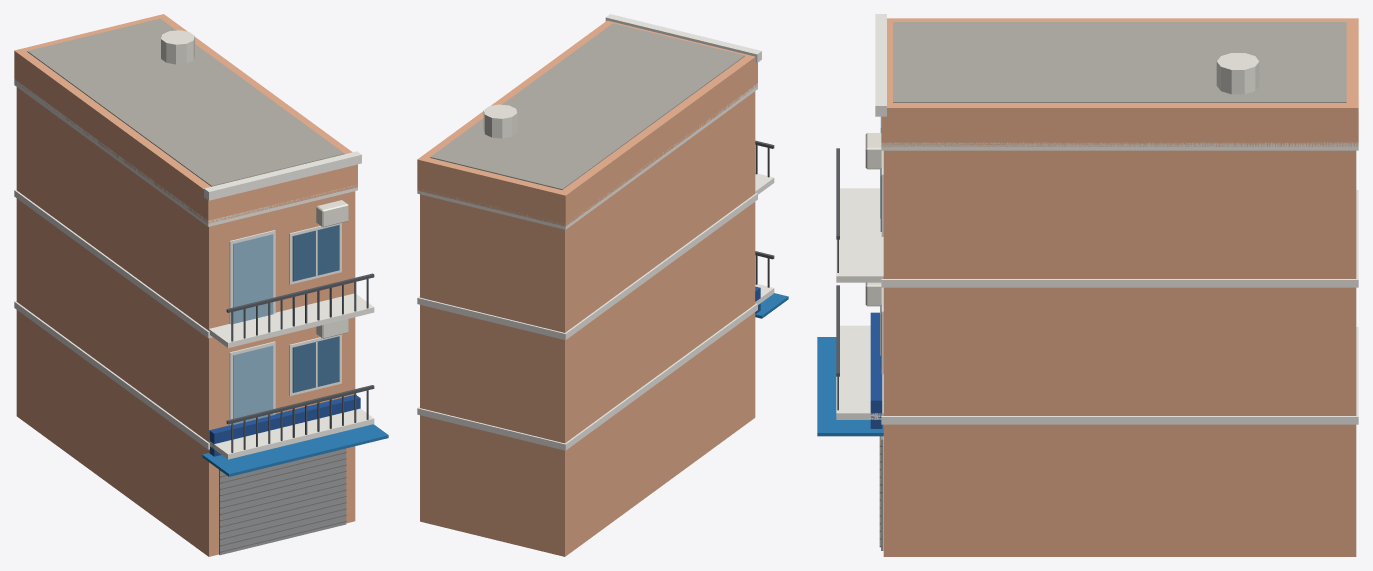
The model's file is BLD_Shophouse_Peach.fbx.
3 renders of one model, left to right at view 1: azimuth 30°, elevation 25°; view 2: azimuth 150°, elevation 25°; view 3: azimuth 270°, elevation 25°, orthographic. The views are drawn at different scales.
Parts seen in each view (by area): view 1: BLD_Shophouse_Peach; view 2: BLD_Shophouse_Peach; view 3: BLD_Shophouse_Peach.
Boxes of the visible parts, x1,y1,x2,y2 form: BLD_Shophouse_Peach: [14, 14, 388, 556]; BLD_Shophouse_Peach: [417, 14, 788, 556]; BLD_Shophouse_Peach: [817, 14, 1358, 556].
Size of the model in its own units: 4.8 by 11.1 by 11.45.
